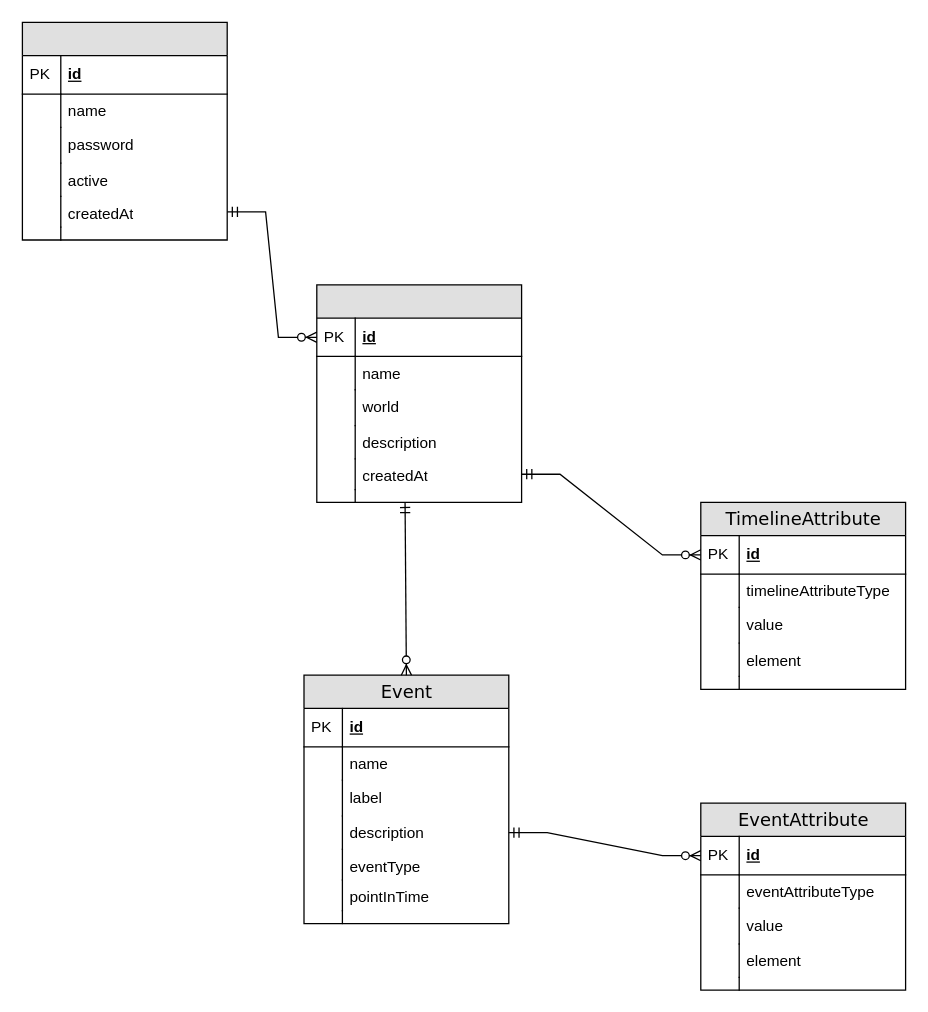
Image size: 928x1012. Some labels were removed from this diagram. The box of each missing label's shape, as (x1, y1, x2, y2) in pixels:
Timeline: (316, 284, 522, 502)
User: (21, 21, 227, 240)
